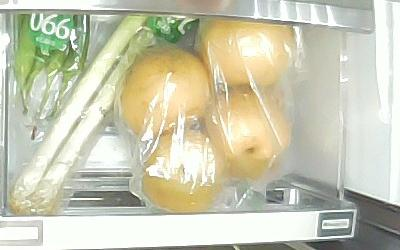pear_vinyl: (120, 46, 210, 137), (205, 89, 290, 175), (197, 18, 295, 91), (140, 130, 221, 210)
